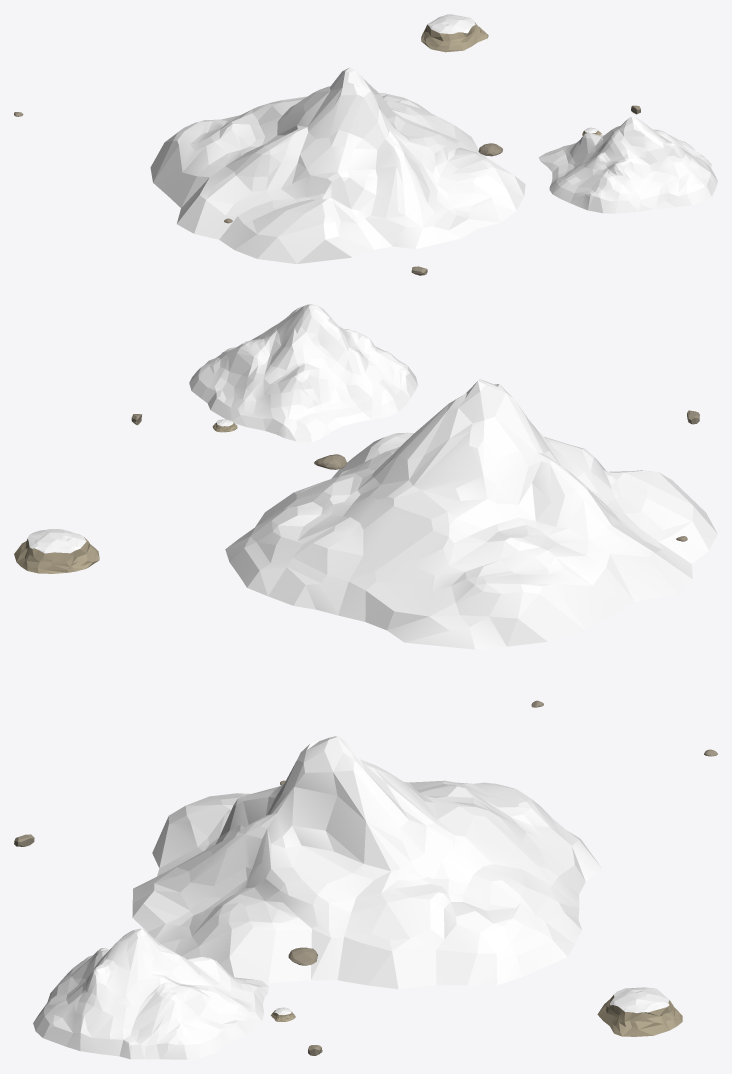
File: Probuilder_Snow_Steppable.fbx
3 views of the same model, one above another, from view 1: azimuth 30°, elevation 25°; view 2: azimuth 150°, elevation 25°; view 3: azimuth 270°, elevation 25° (orthographic). The views are drawn at different scales.
Parts seen in each view (by area): view 1: SM_Terrain_Mountain_02, SM_Terrain_Mountain_01, SM_Terrain_GrassEdge_04; view 2: SM_Terrain_Mountain_02, SM_Terrain_Mountain_01, SM_Terrain_GrassEdge_04; view 3: SM_Terrain_Mountain_02, SM_Terrain_Mountain_01, SM_Terrain_GrassEdge_04.
Boxes of the visible parts, x1,y1,x2,y2 form: SM_Terrain_Mountain_02: (150,67,525,263); SM_Terrain_Mountain_01: (538,117,717,213); SM_Terrain_GrassEdge_04: (421,14,488,52); SM_Terrain_Mountain_02: (225,379,717,649); SM_Terrain_Mountain_01: (189,304,417,441); SM_Terrain_GrassEdge_04: (14,529,99,573); SM_Terrain_Mountain_02: (132,736,602,989); SM_Terrain_Mountain_01: (33,928,268,1059); SM_Terrain_GrassEdge_04: (597,987,682,1036).
Size of the model in its own units: 1861 by 455 by 1817.
Materials: 1 (1 with a texture image).
